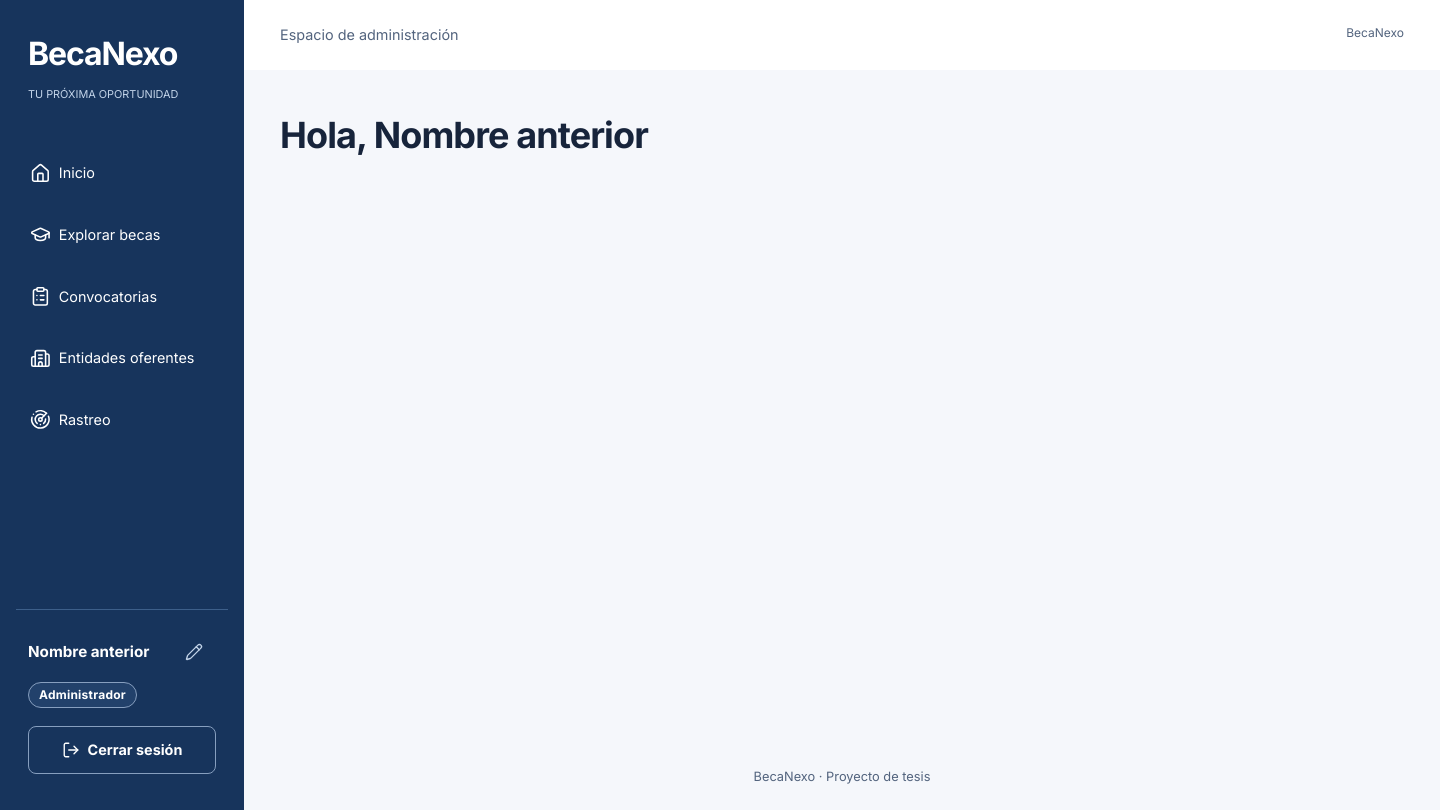
Test: bloquea doble envío mientras guarda
Click the button named "Editar nombre".
click(194, 652)  # box [172,630,216,674]
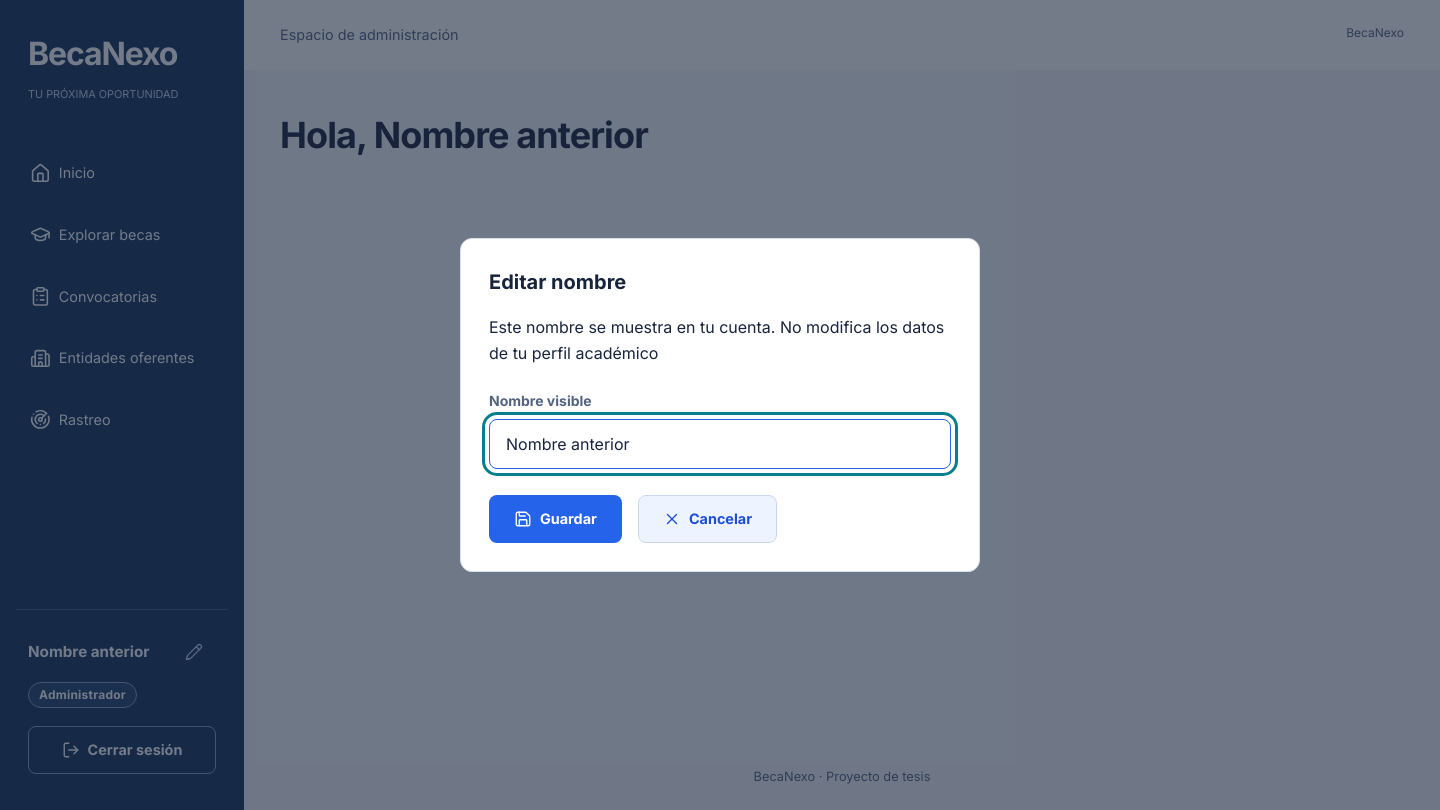
Double-click the button "Guardar".
double_click(555, 519)  # box [489,495,622,543]
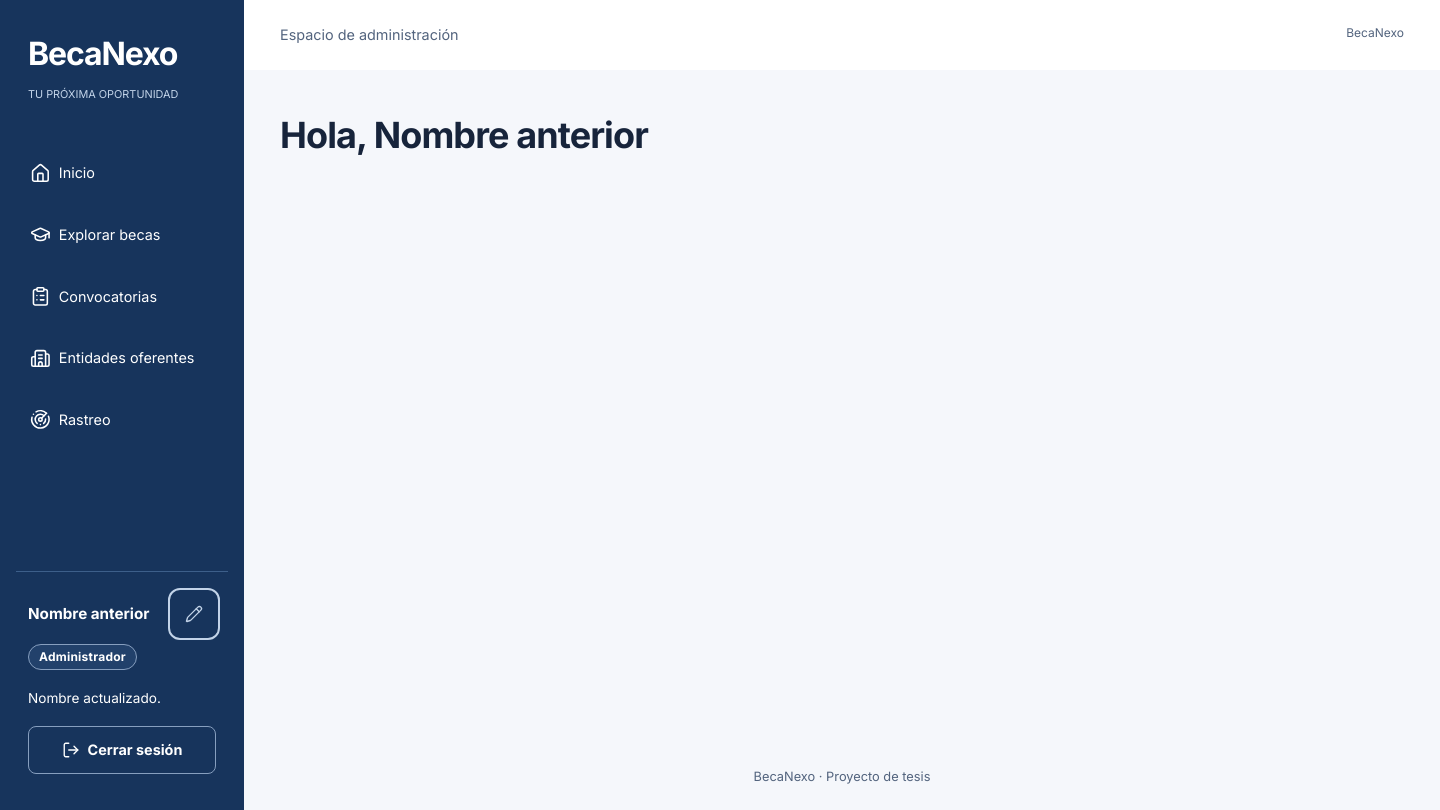
Now the text "Nombre actualizado." is shown, box [28,690,161,706]
